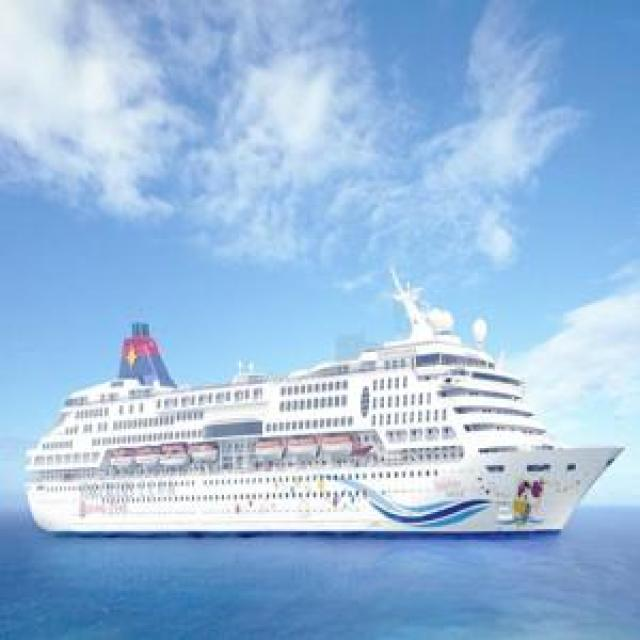passenger ship: (26, 287, 626, 554)
